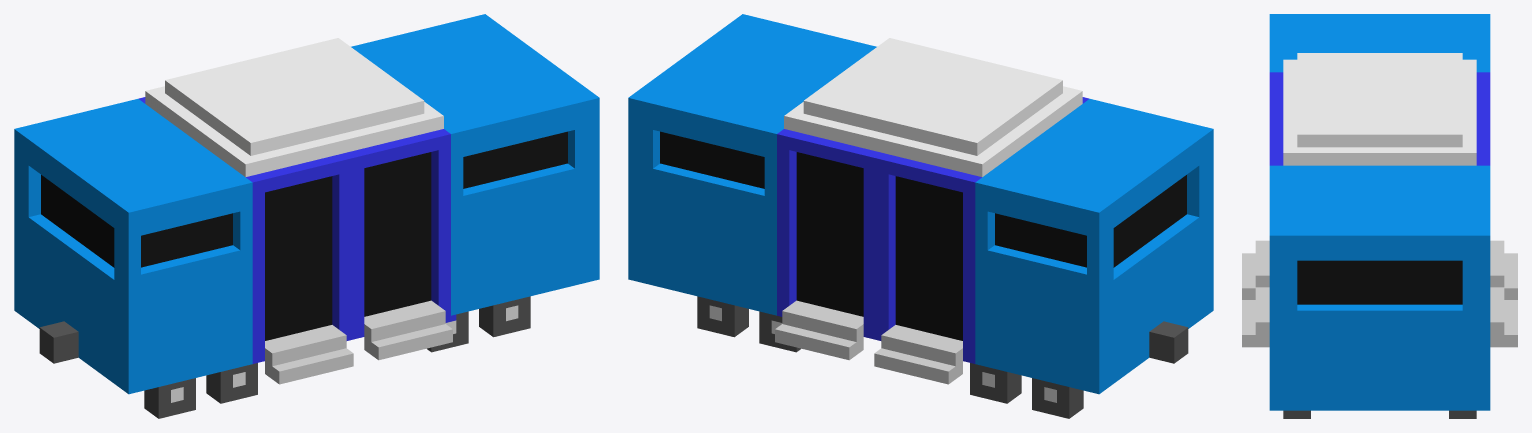
The model's file is vagao.obj.
The picture shows the model from 3 angles, left to right: view 1: azimuth 30°, elevation 25°; view 2: azimuth 150°, elevation 25°; view 3: azimuth 270°, elevation 25°; orthographic projection. The views are drawn at different scales.
Size of the model in its own units: 40 by 19 by 20.
1 material, 1 textured.
